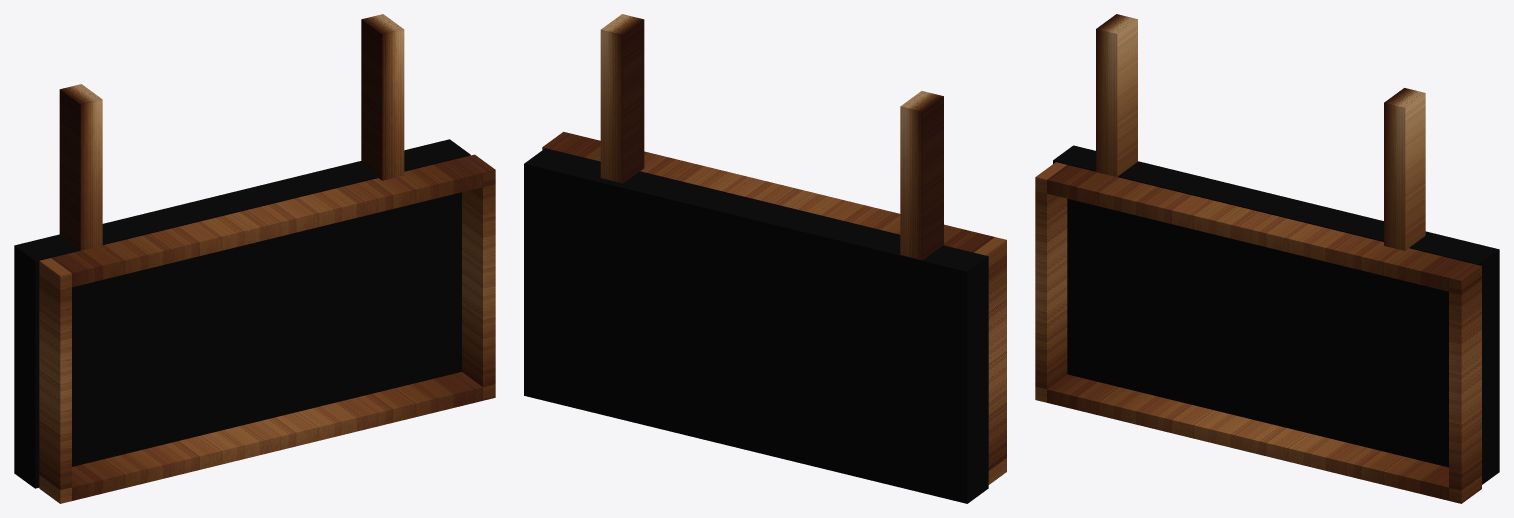
Rendered from board.obj.
3 renders of one model, left to right at view 1: azimuth 30°, elevation 25°; view 2: azimuth 150°, elevation 25°; view 3: azimuth 330°, elevation 25°, orthographic. The views are drawn at different scales.
Parts seen in each view (by area): view 1: Plane.001; view 2: Plane.001; view 3: Plane.001.
Boxes of the visible parts, <box> form: Plane.001: <box>14,14,495,503</box>; Plane.001: <box>524,14,1006,503</box>; Plane.001: <box>1035,14,1499,503</box>.
Size of the model in its own units: 29.22 by 23.79 by 4.89.
Materials: 1 (1 with a texture image).
